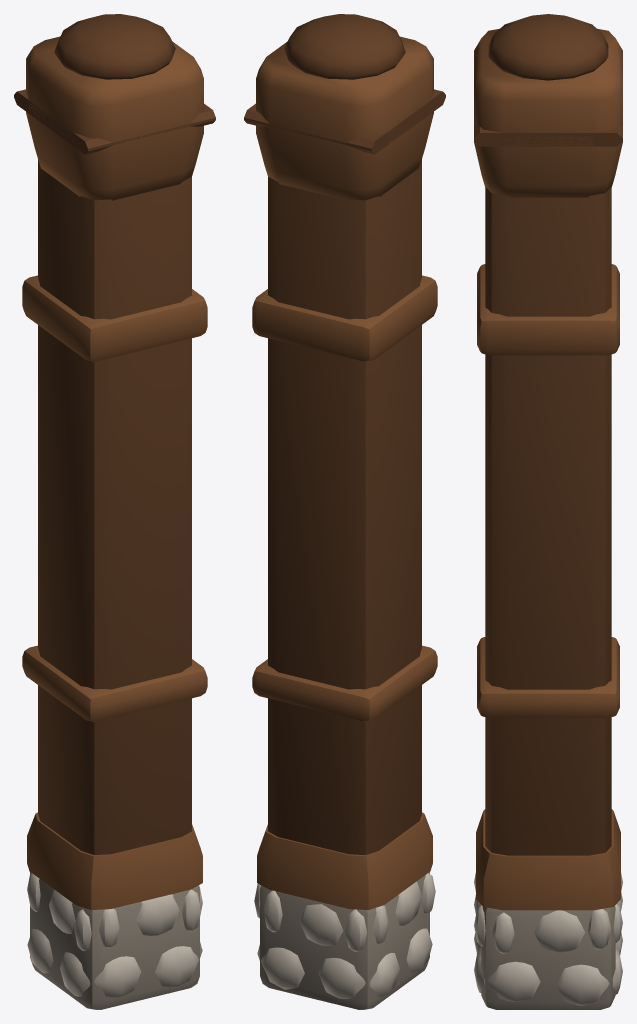
File: ZoneKitCorner.fbx
3 renders of one model, left to right at view 1: azimuth 30°, elevation 25°; view 2: azimuth 150°, elevation 25°; view 3: azimuth 270°, elevation 25°, orthographic.
Visible parts, largest first — view 1: ZoneKitCorner; view 2: ZoneKitCorner; view 3: ZoneKitCorner.
Boxes of the visible parts, x1,y1,x2,y2 form: ZoneKitCorner: (14,14,215,1009); ZoneKitCorner: (244,14,445,1009); ZoneKitCorner: (474,14,622,1009).
Size of the model in its own units: 0.4 by 2.85 by 0.4.
